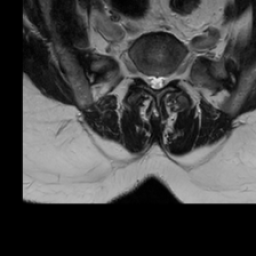CCS_severe_stenosis: (154, 69, 160, 95)
LFS_normal: (167, 67, 175, 85)
LLS_normal: (160, 69, 167, 90)
RFS_stenosis: (140, 68, 147, 90)
RLS_normal: (147, 69, 154, 90)
